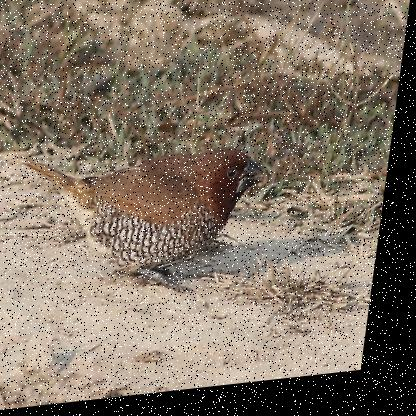Burung: (12, 138, 275, 309)
